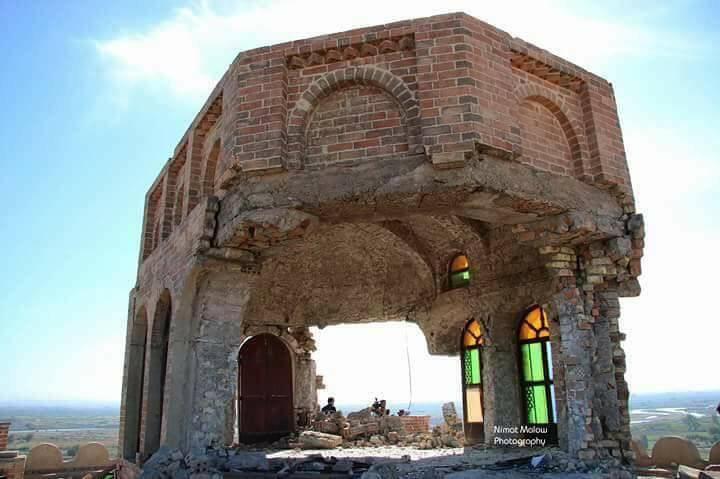destroyed: (112, 22, 658, 479)
